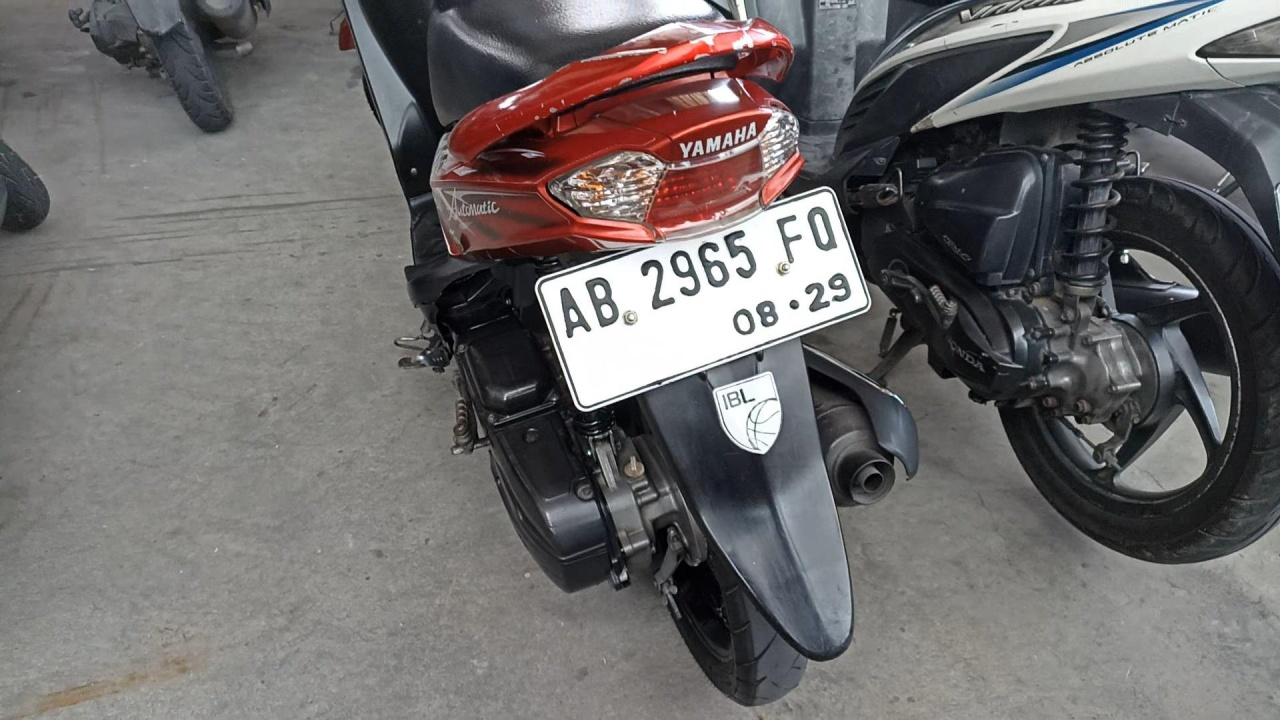plate: (535, 186, 875, 414)
